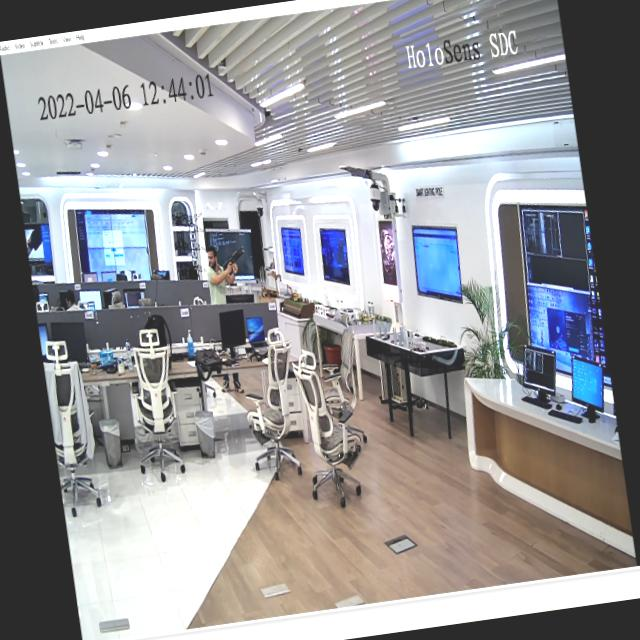long weapon: (218, 243, 252, 284)
